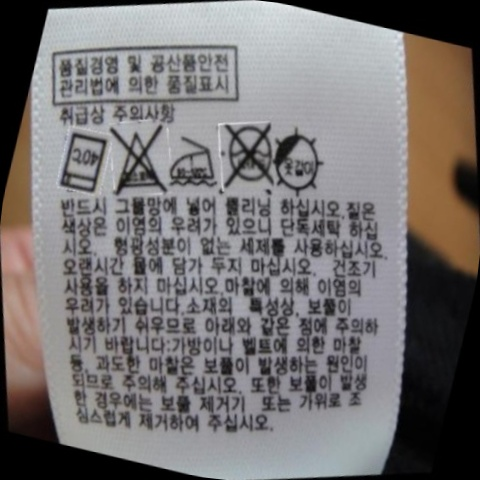40C: (50, 124, 113, 200)
DN_dry_clean: (218, 109, 279, 194)
iron_low: (164, 132, 223, 196)
line_dry_in_shade: (268, 122, 334, 200)
non_chlorine_bleach: (102, 112, 177, 203)
